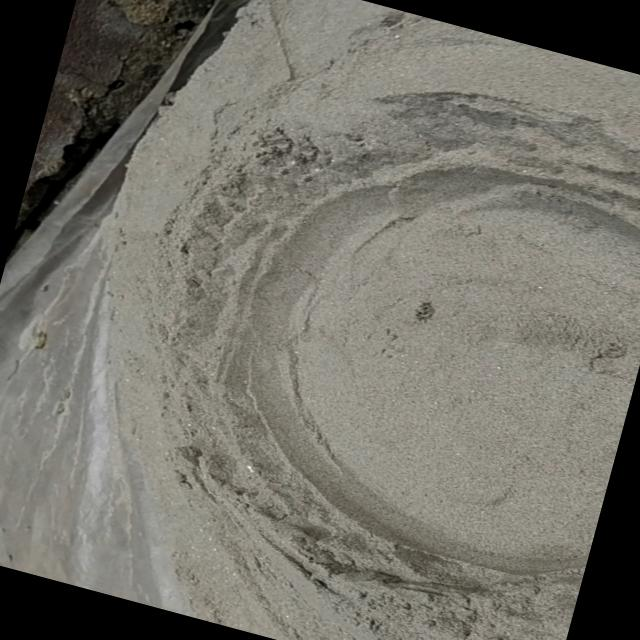C40: (242, 145, 640, 584)
